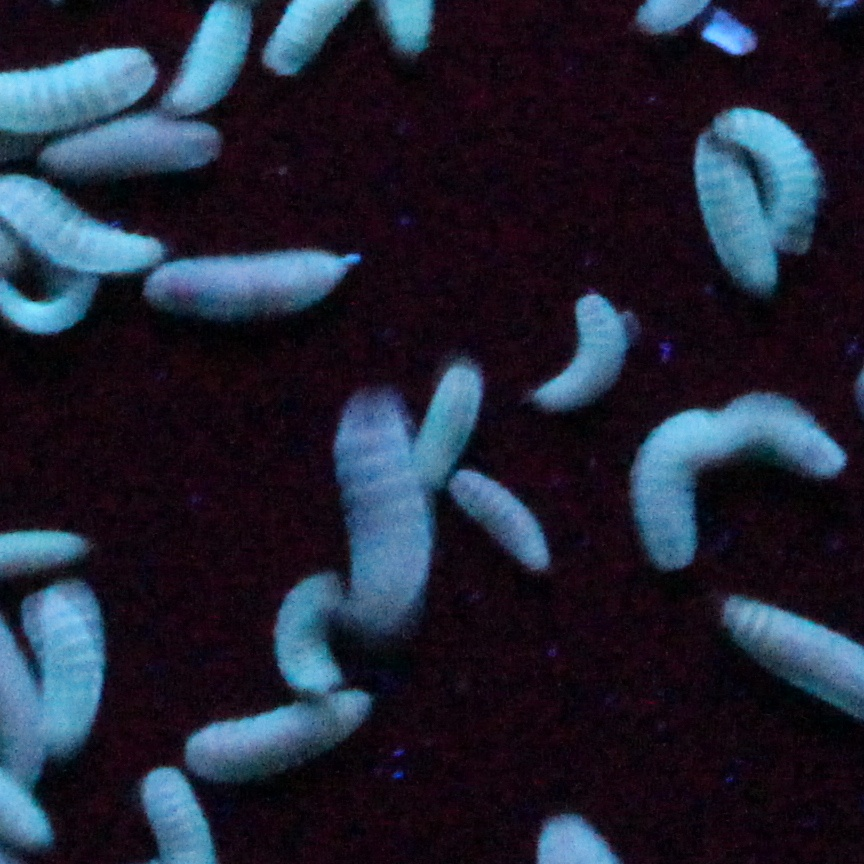larve: (324, 382, 418, 633), (186, 684, 381, 774), (717, 98, 821, 251), (686, 128, 780, 296), (151, 249, 371, 316), (532, 279, 629, 411), (634, 410, 714, 570), (33, 602, 112, 751), (722, 390, 842, 476), (446, 473, 548, 568), (47, 121, 230, 167), (269, 578, 339, 698), (414, 358, 482, 477)
